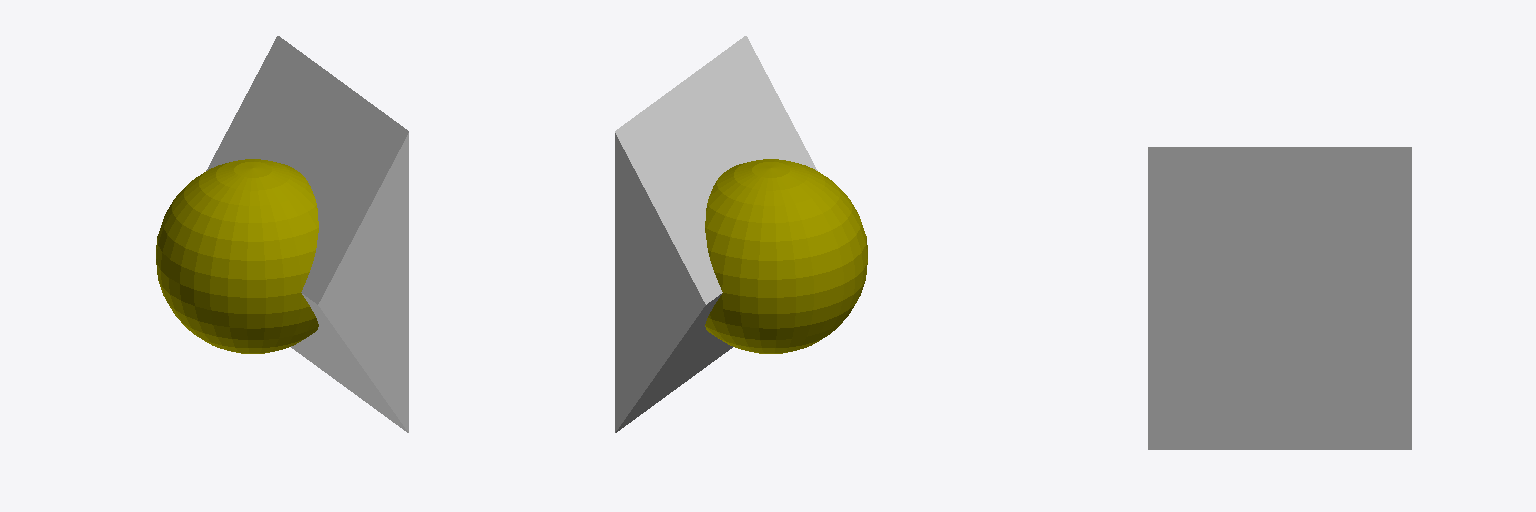
File: pacman.obj
3 views of the same model, side by side, from view 1: azimuth 30°, elevation 25°; view 2: azimuth 150°, elevation 25°; view 3: azimuth 270°, elevation 25° (orthographic).
Parts seen in each view (by area): view 1: Cube_Cube.001, PAC_MAN_Sphere; view 2: Cube_Cube.001, PAC_MAN_Sphere; view 3: Cube_Cube.001.
Part boxes in pixels (x1,y1,x2,y2): Cube_Cube.001: (206,36,408,432); PAC_MAN_Sphere: (156,159,318,353); Cube_Cube.001: (615,36,817,432); PAC_MAN_Sphere: (705,159,867,353); Cube_Cube.001: (1148,147,1411,449).
Bounding box in the file's own units: 2.07 × 3.42 × 2.7.